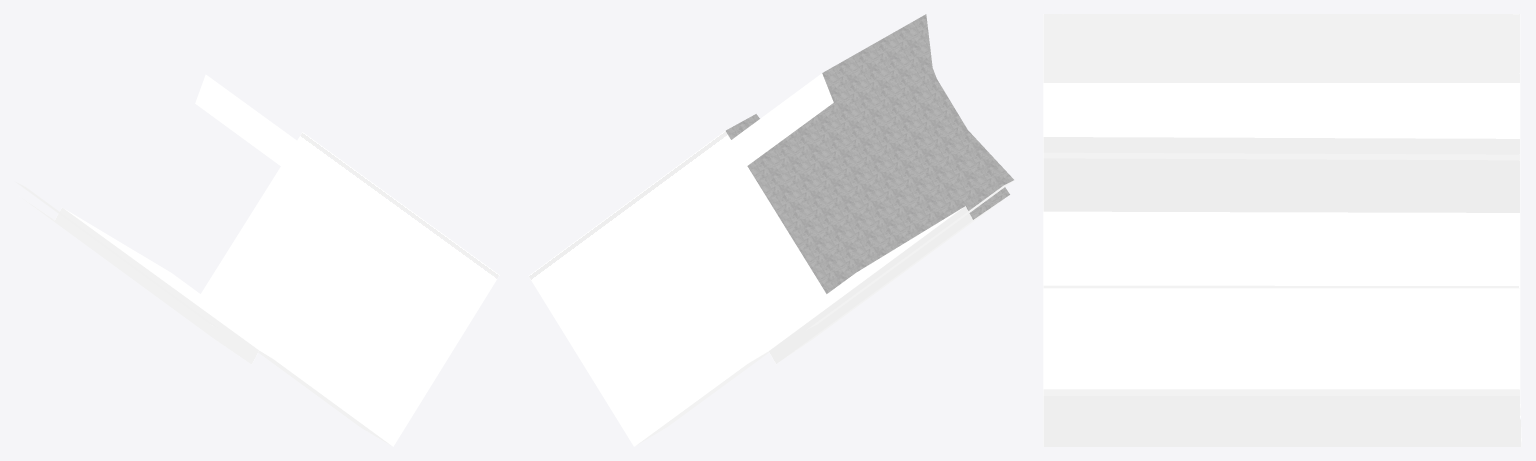
3 views of the same model, side by side, from view 1: azimuth 30°, elevation 25°; view 2: azimuth 150°, elevation 25°; view 3: azimuth 270°, elevation 25° (orthographic). The views are drawn at different scales.
Visible parts, largest first — view 1: BuildingMaster_2018193856144462193500000000_0; view 2: BuildingMaster_2018193856144462193500000000_0, BuildingMaster_2018193856144462193500000000_1; view 3: BuildingMaster_2018193856144462193500000000_0.
Boxes of the visible parts, left/top/right/bottom form: BuildingMaster_2018193856144462193500000000_0: left=16, top=74, right=499, bottom=446; BuildingMaster_2018193856144462193500000000_0: left=528, top=73, right=1013, bottom=446; BuildingMaster_2018193856144462193500000000_1: left=726, top=14, right=1013, bottom=293; BuildingMaster_2018193856144462193500000000_0: left=1043, top=14, right=1521, bottom=446.
Size of the model in its own units: 68 by 70 by 80.5.
